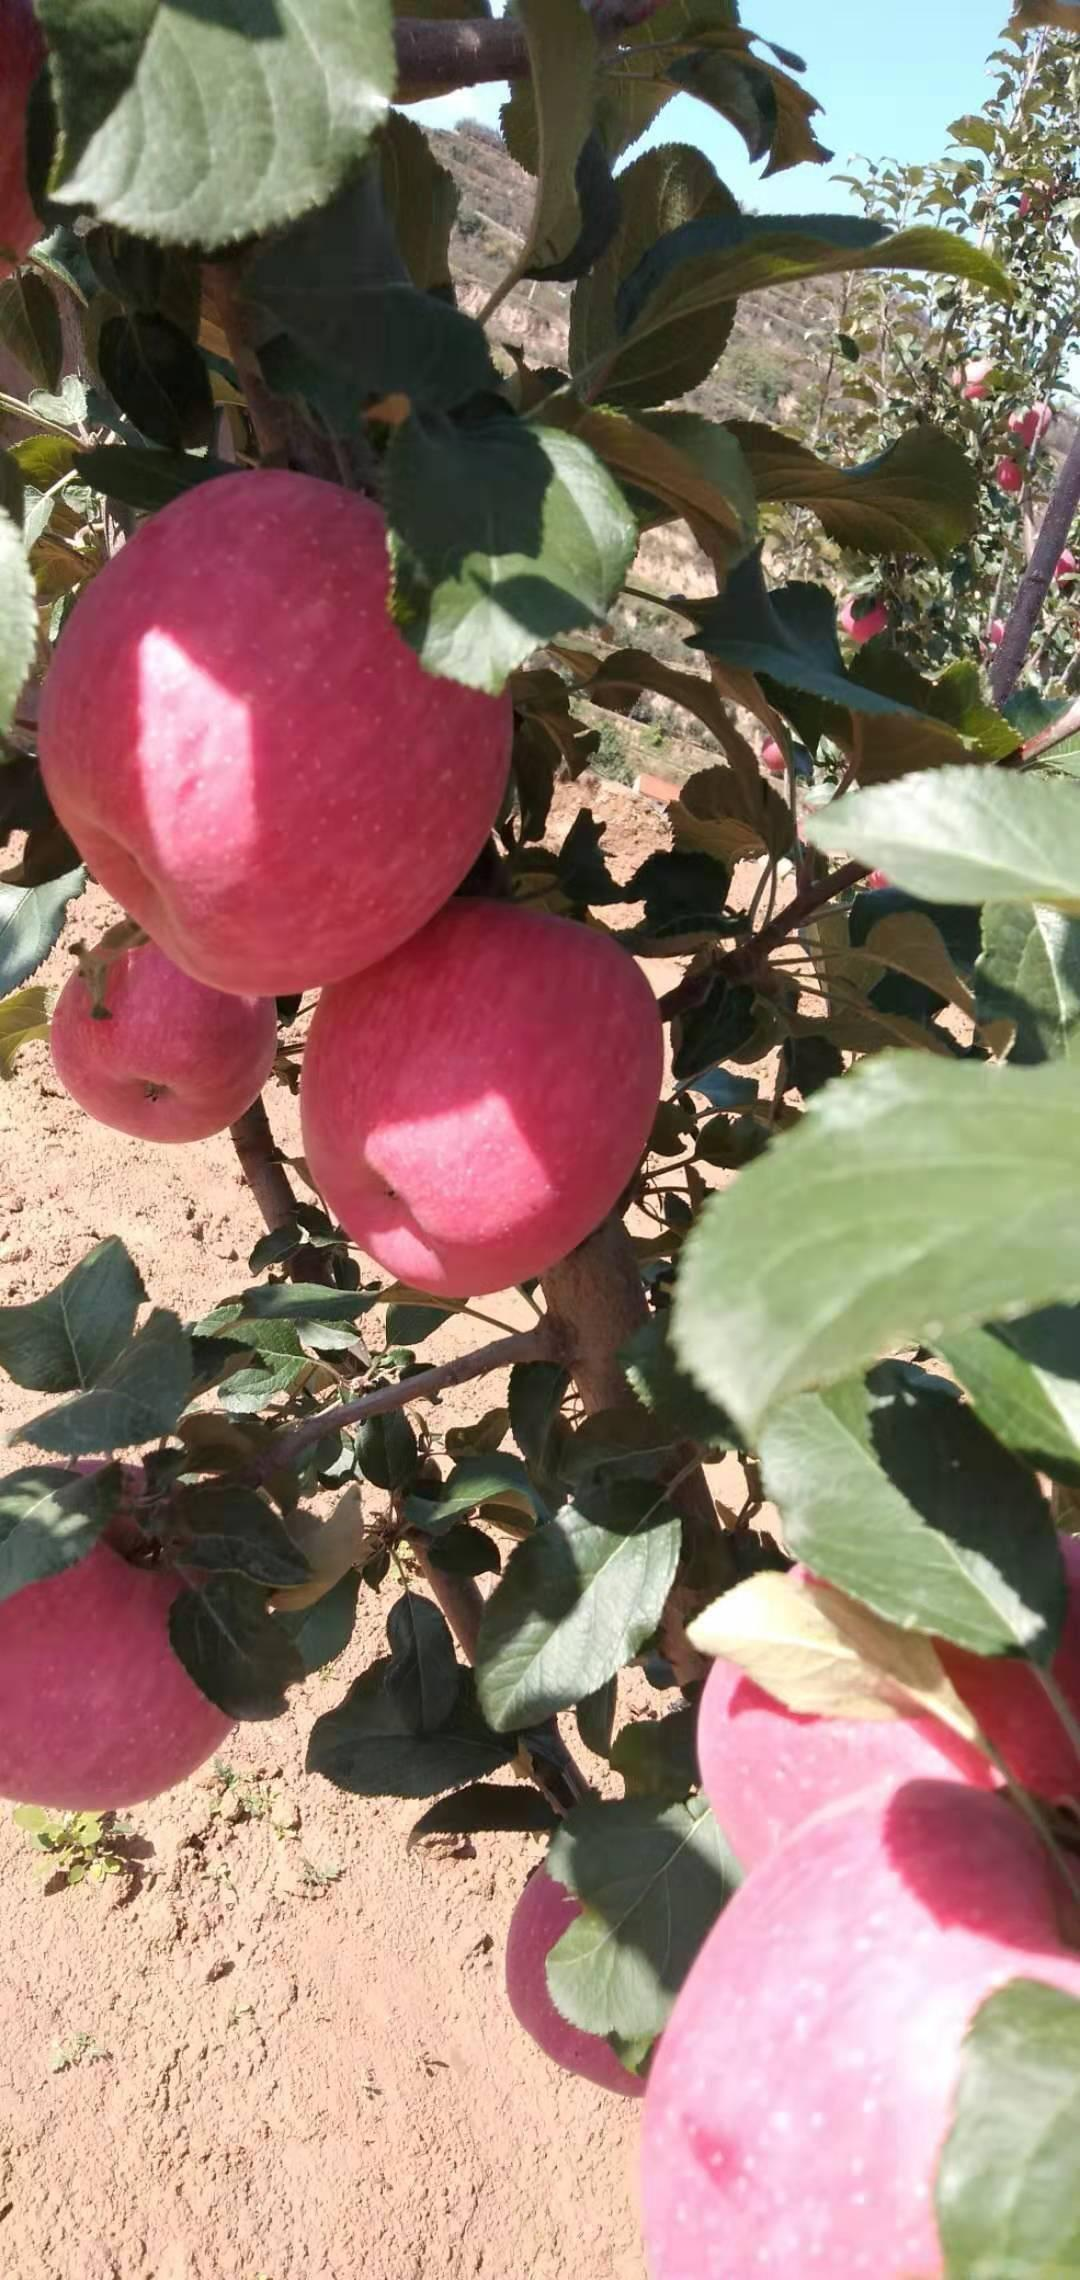apple: (23, 426, 515, 942), (288, 893, 664, 1309)
